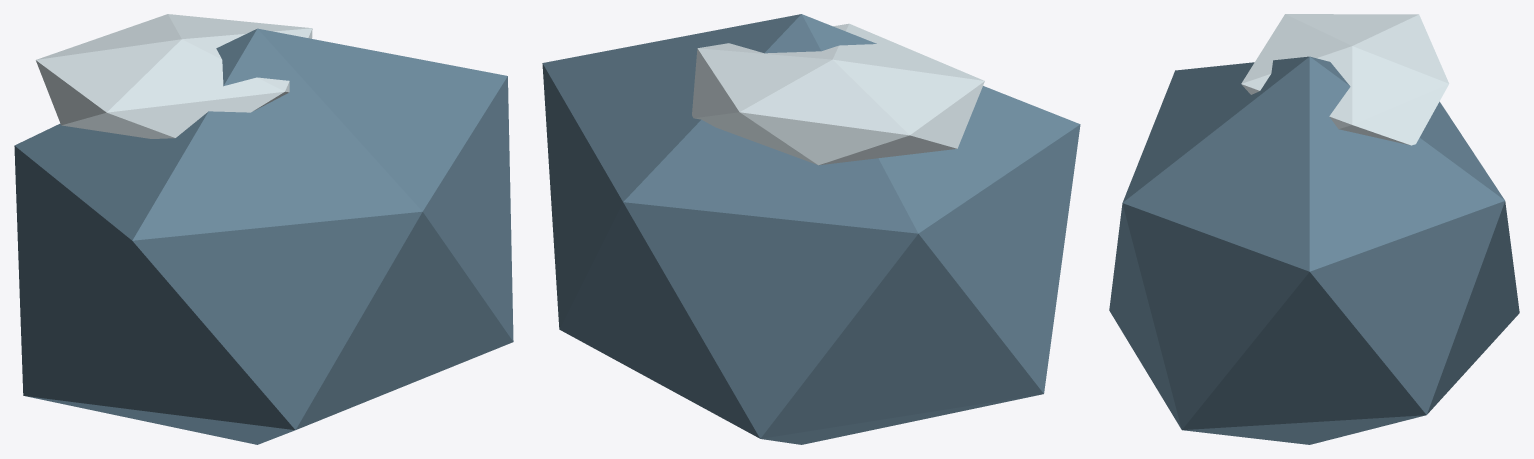
Rendered from pedra.glb.
The picture shows the model from 3 angles, left to right: view 1: azimuth 30°, elevation 25°; view 2: azimuth 150°, elevation 25°; view 3: azimuth 270°, elevation 25°; orthographic projection. The views are drawn at different scales.
Parts seen in each view (by area): view 1: neve_pedra; view 2: neve_pedra; view 3: neve_pedra.
Boxes of the visible parts, left/top/right/bottom form: neve_pedra: left=14, top=14, right=513, bottom=444; neve_pedra: left=542, top=14, right=1080, bottom=444; neve_pedra: left=1109, top=14, right=1519, bottom=444.
Size of the model in its own units: 0.7353 by 0.6037 by 0.5782.
